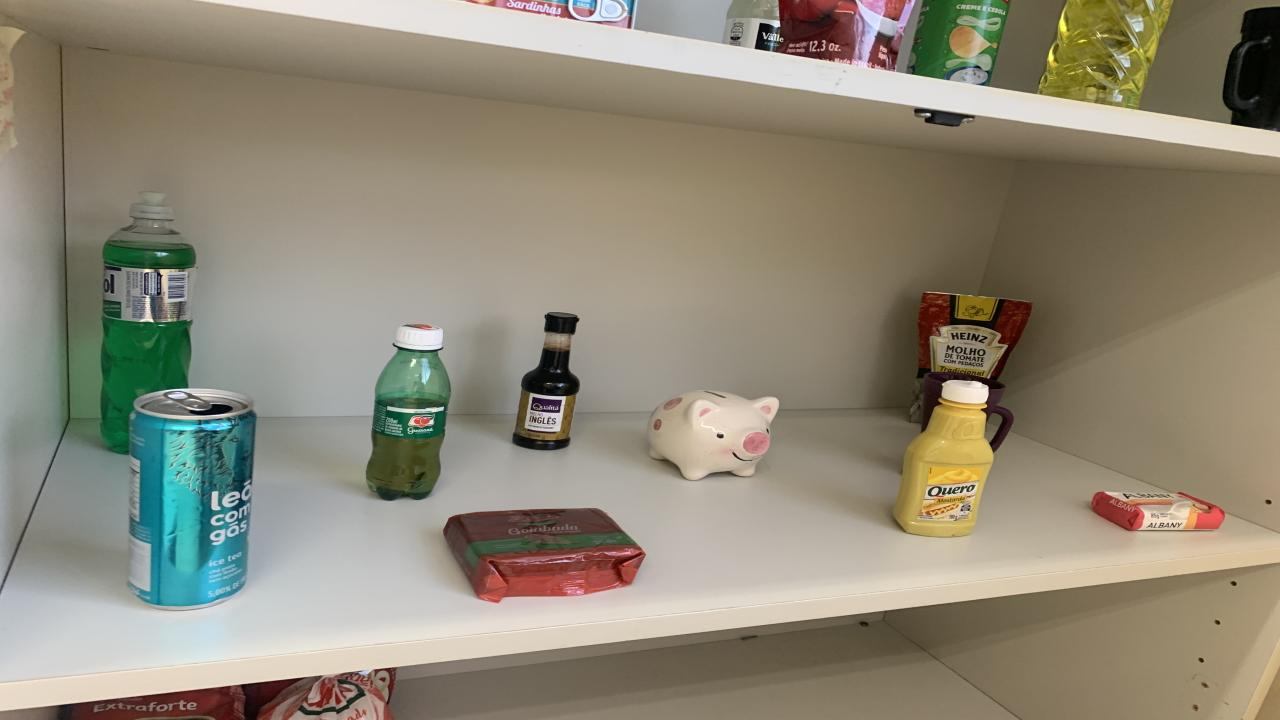Detergent-Cleanup_Items: (100, 193, 195, 452), (1038, 0, 1172, 109)
English_Sauce-Pantry_Items: (512, 311, 580, 450)
Guarana-Drinks: (365, 324, 450, 501)
Guava-Snacks: (442, 508, 645, 602)
Mustard-Pantry_Items: (892, 381, 992, 536)
Pig_Safe-Miscellaneous: (648, 390, 780, 480)
Pringles-Snacks: (908, 0, 1010, 86)
Soap-Cleanup_Items: (1090, 491, 1225, 531)
Soda-Drinks: (722, 0, 780, 51)
Tea-Drinks: (128, 388, 258, 609)
Tomato_Sauce-Pantry_Items: (910, 292, 1032, 422), (778, 0, 915, 71)
Tuna_Can-Pantry_Items: (465, 0, 638, 28)
